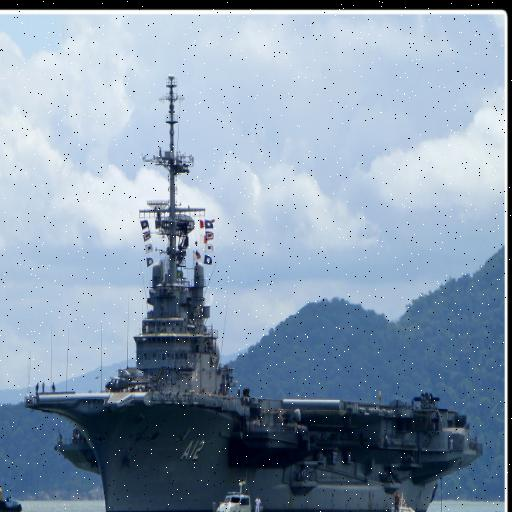Portanaves: (22, 69, 487, 512)
